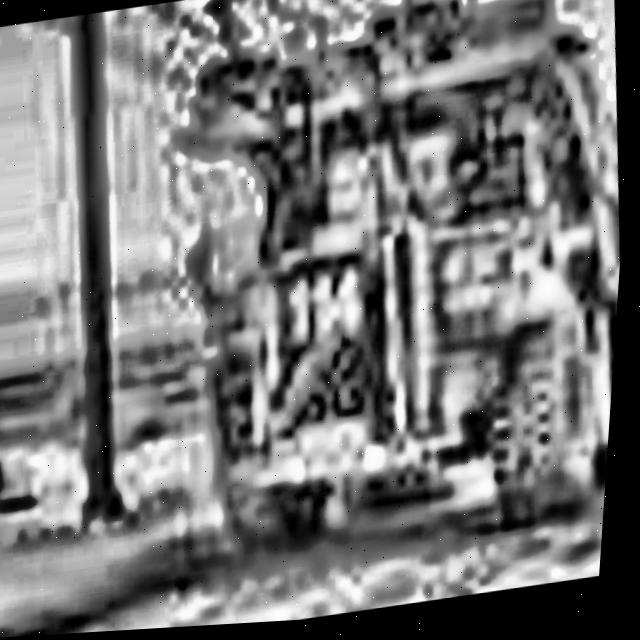dump_truck: (143, 0, 640, 593)
